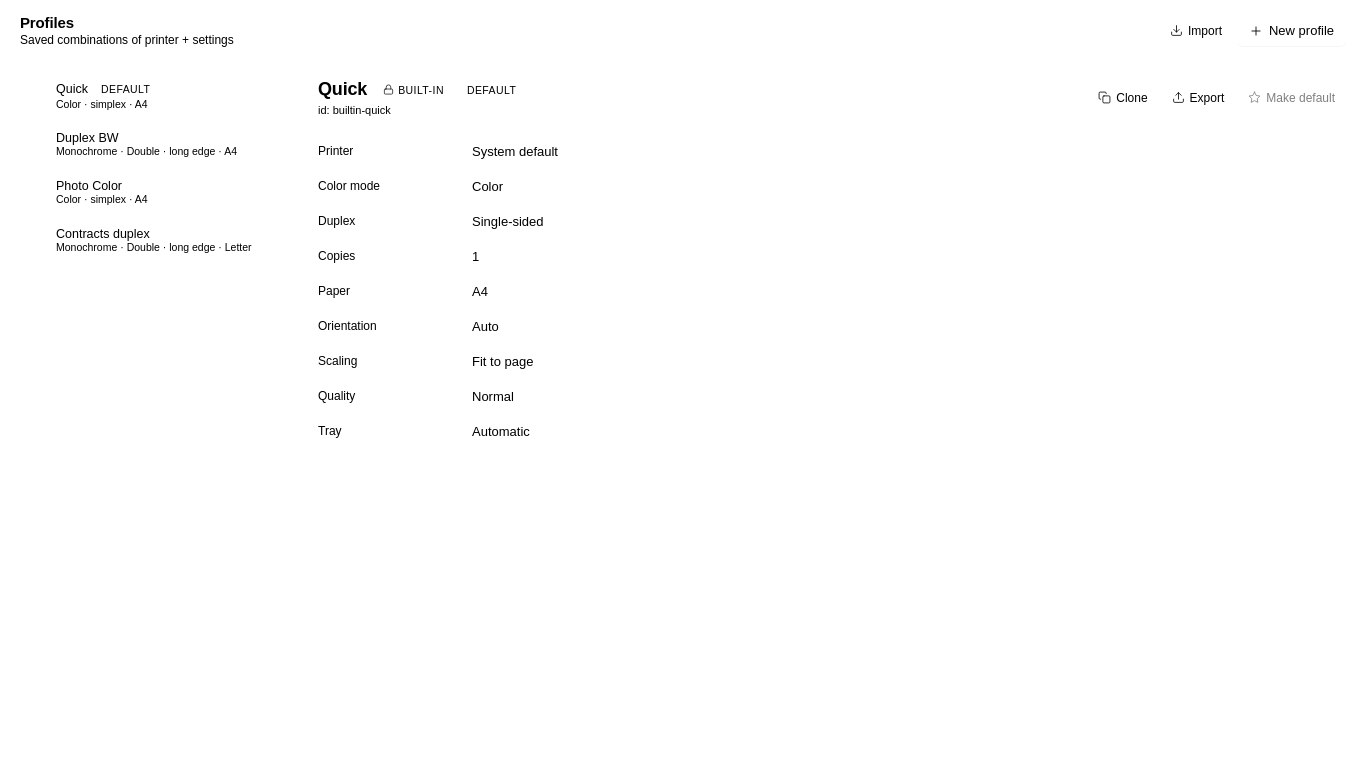
Test: ProfilesScreen › clones a built-in into a prefilled "Copy of …" draft
Expected: the text "Photo Color" is shown, [56, 179, 122, 193]
Click the button "Clone" at [1123, 98], box [1089, 86, 1157, 110]
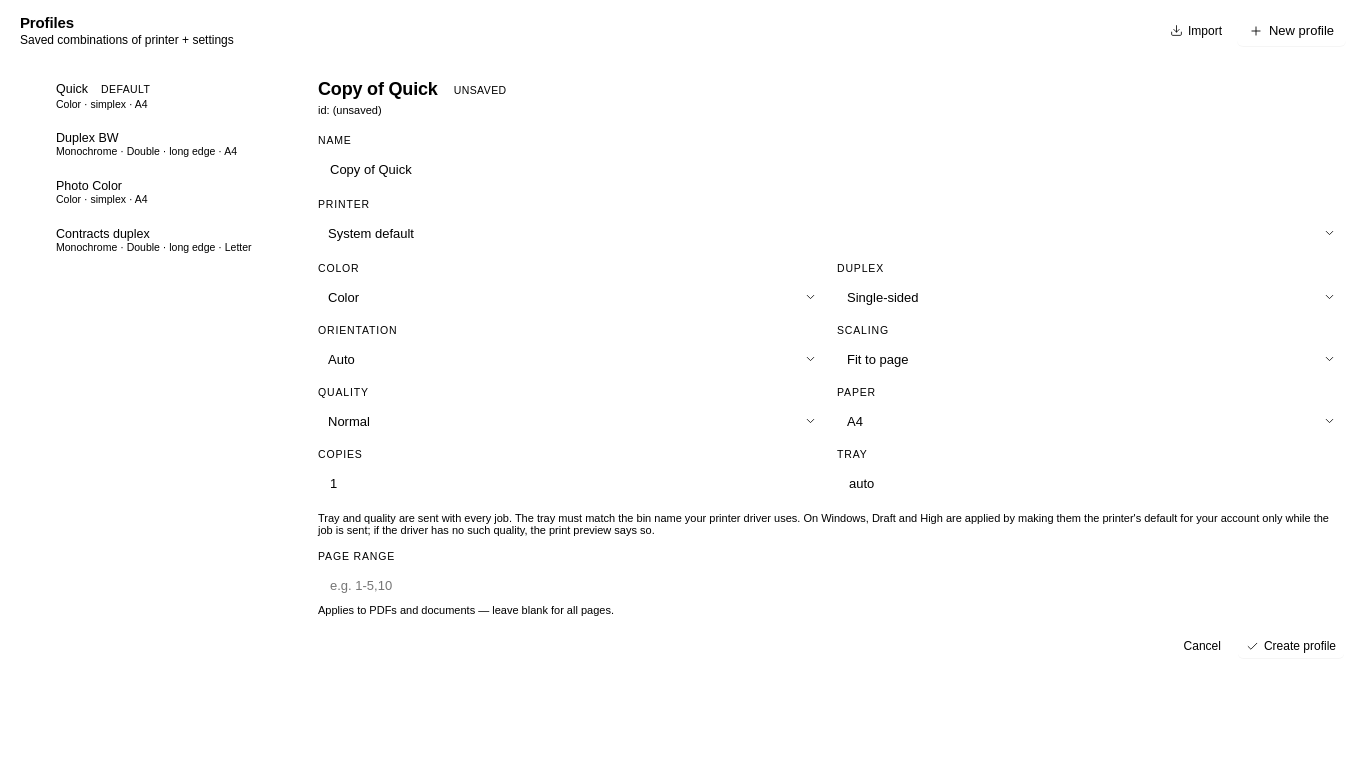
Now the field showing "Copy of Quick" is shown, box [328, 153, 1354, 185]
Now the button "Create profile" is shown, box [1238, 634, 1344, 658]
Now the text "unsaved" is shown, box [454, 84, 507, 96]
